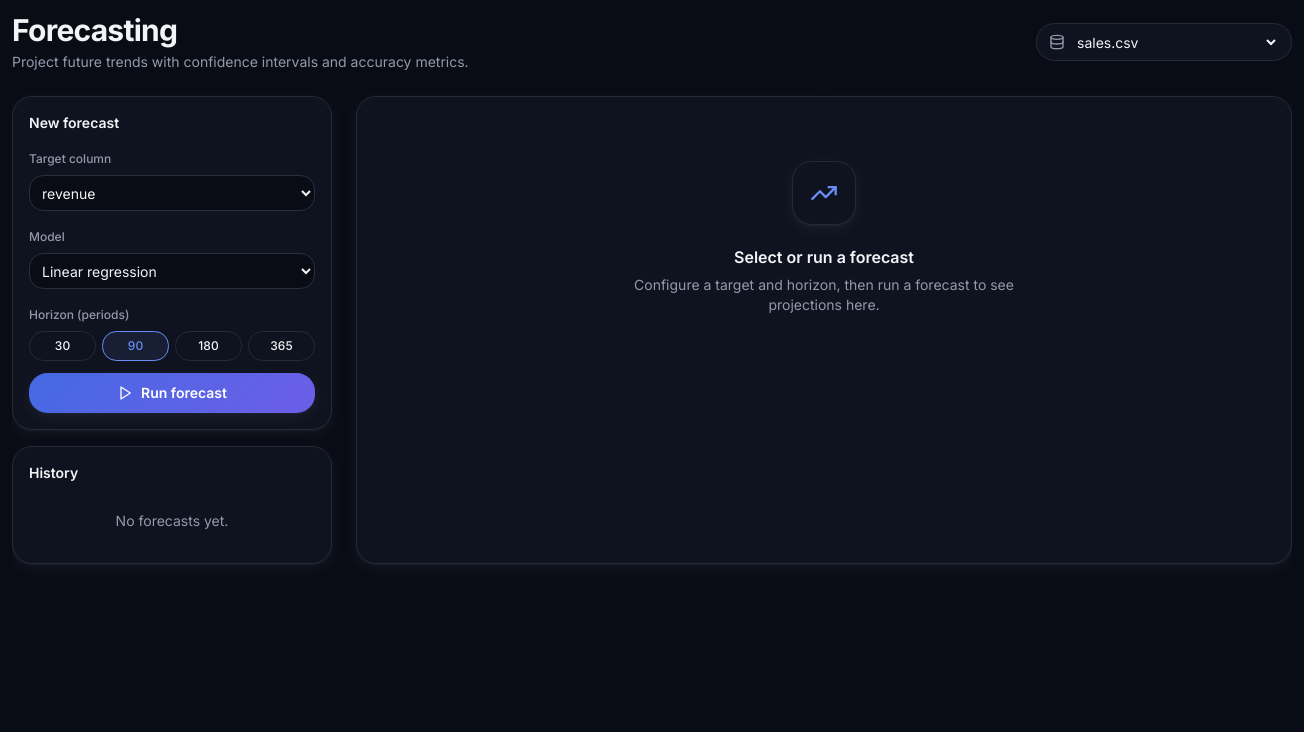
Scenario: ForecastsPage workflow › runs a forecast and renders the CI chart with accuracy metrics
# numeric target column is auto-selected from the dataset schema
Click the button "Run forecast".
click(172, 393)  # box [29,373,315,413]
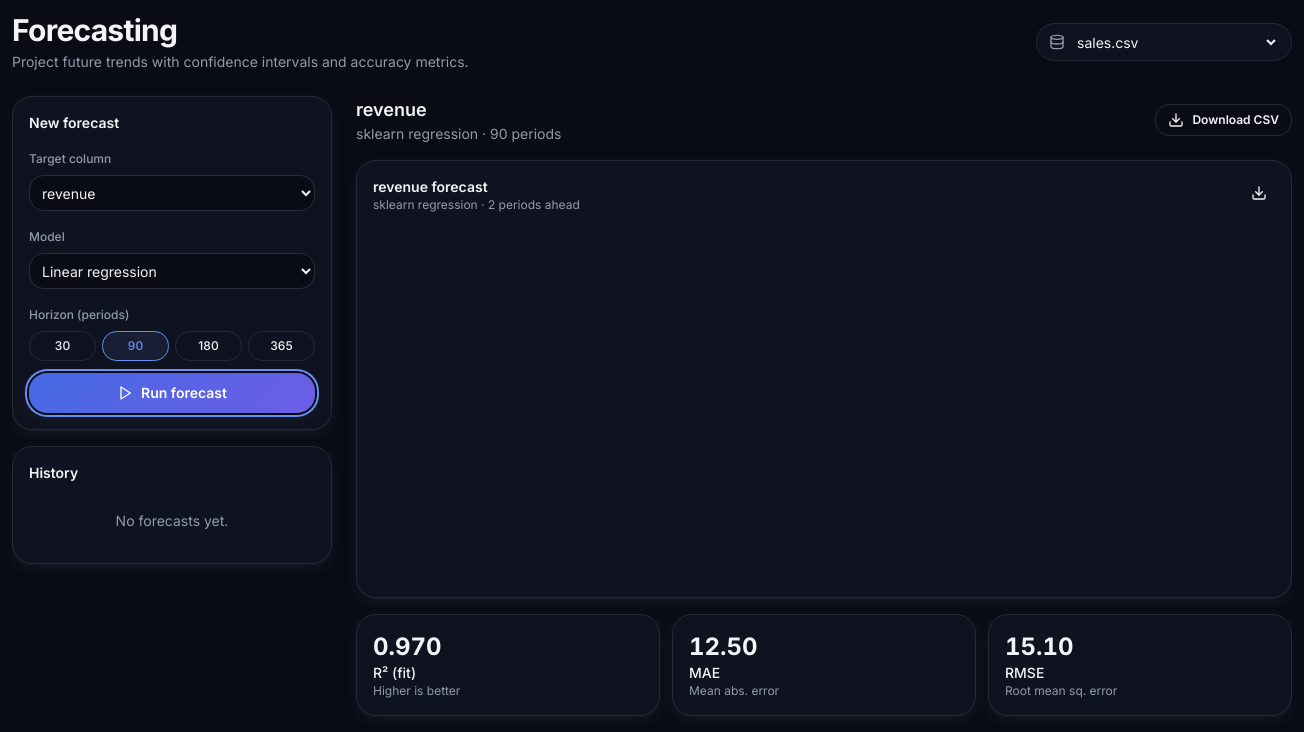
Expected: the text "R² (fit)" is shown, [373,664,416,681]
Expected: the text "0.970" is shown, [373,632,442,661]
Expected: the button "Download CSV" is shown, [1155,104,1292,136]
